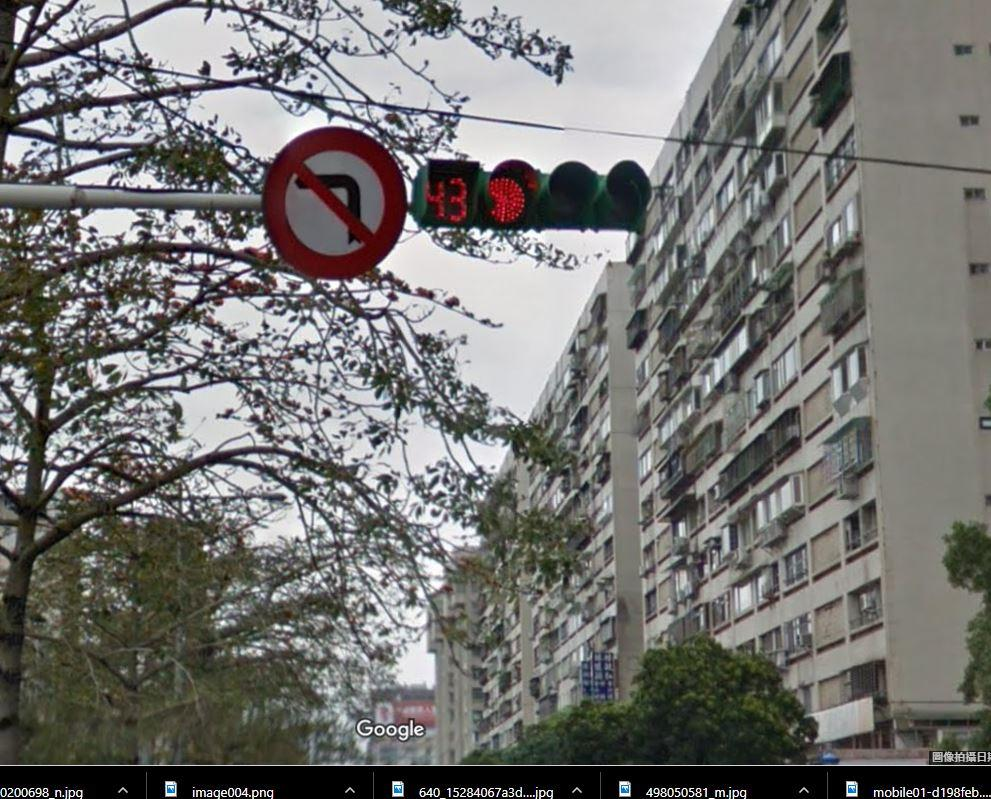no_left_turn: (261, 126, 406, 279)
red_traffic_light: (412, 158, 652, 227)
